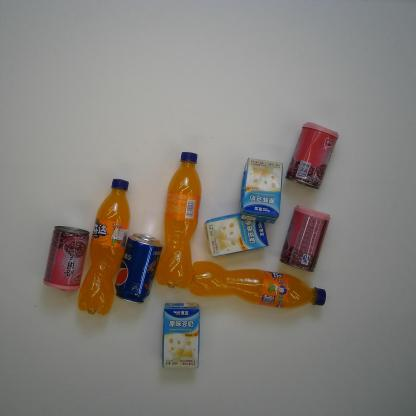Canned Food: (284, 121, 339, 191), (279, 204, 331, 273), (42, 226, 90, 292)
Drink: (76, 177, 131, 316), (189, 260, 327, 310), (154, 151, 202, 290), (114, 233, 163, 304)
Milk: (204, 212, 270, 258), (239, 156, 283, 224), (160, 302, 202, 370)
